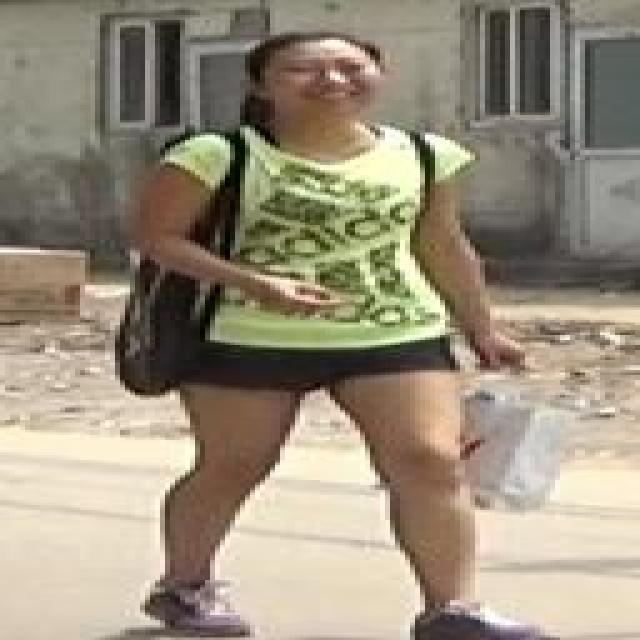adult: (120, 31, 570, 639)
